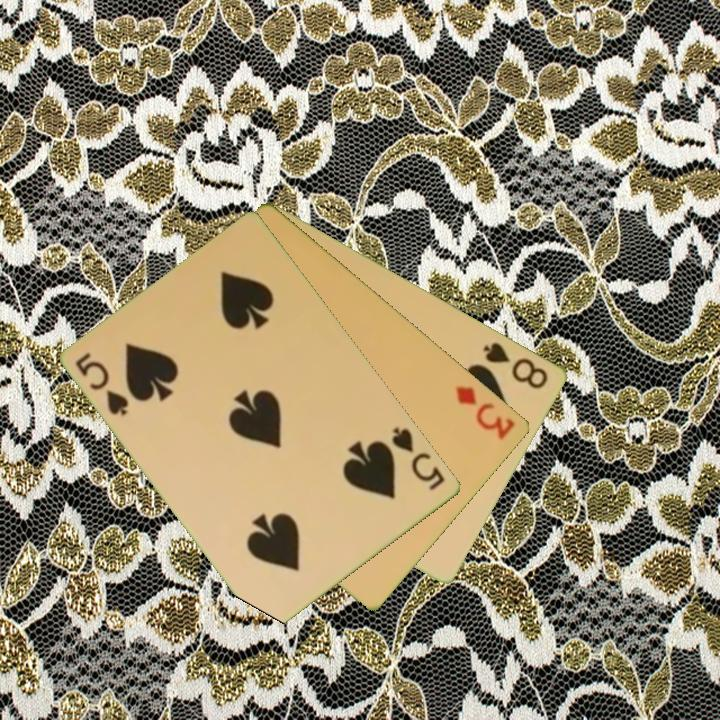3d: (452, 382, 518, 443)
5s: (388, 423, 449, 494), (72, 349, 133, 419)
8s: (480, 338, 552, 392)
